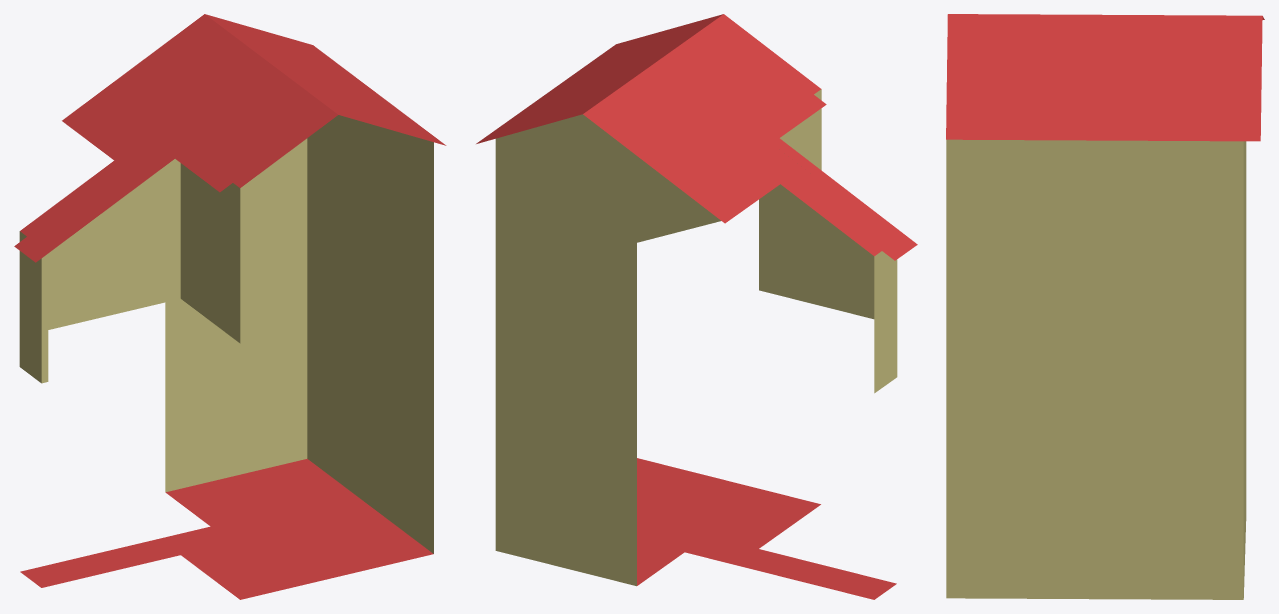
The picture shows the model from 3 angles, left to right: view 1: azimuth 30°, elevation 25°; view 2: azimuth 150°, elevation 25°; view 3: azimuth 270°, elevation 25°; orthographic projection. The views are drawn at different scales.
Bounding box in the file's own units: 13.84 × 9.28 × 17.05.
